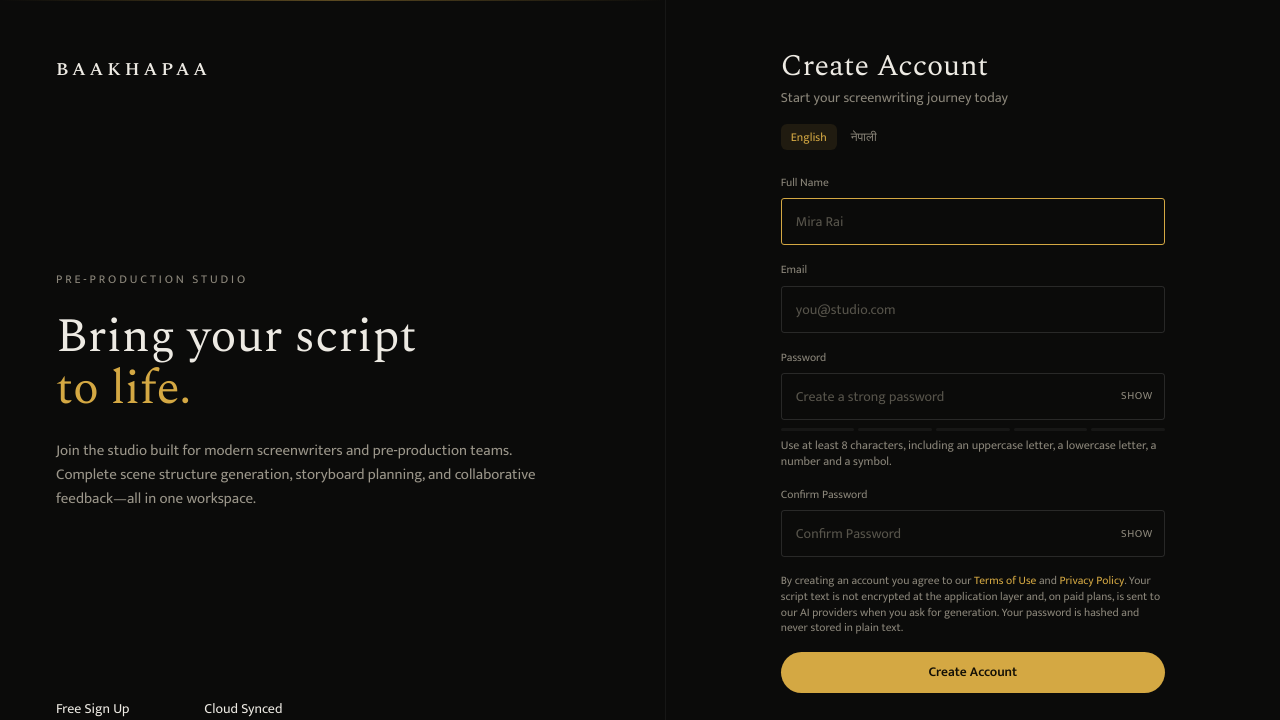
Test: a partly-valid password names only what is still missing
In the password field labelled "Password": (973, 396) [781,373,1165,420], type "kathmandu1"
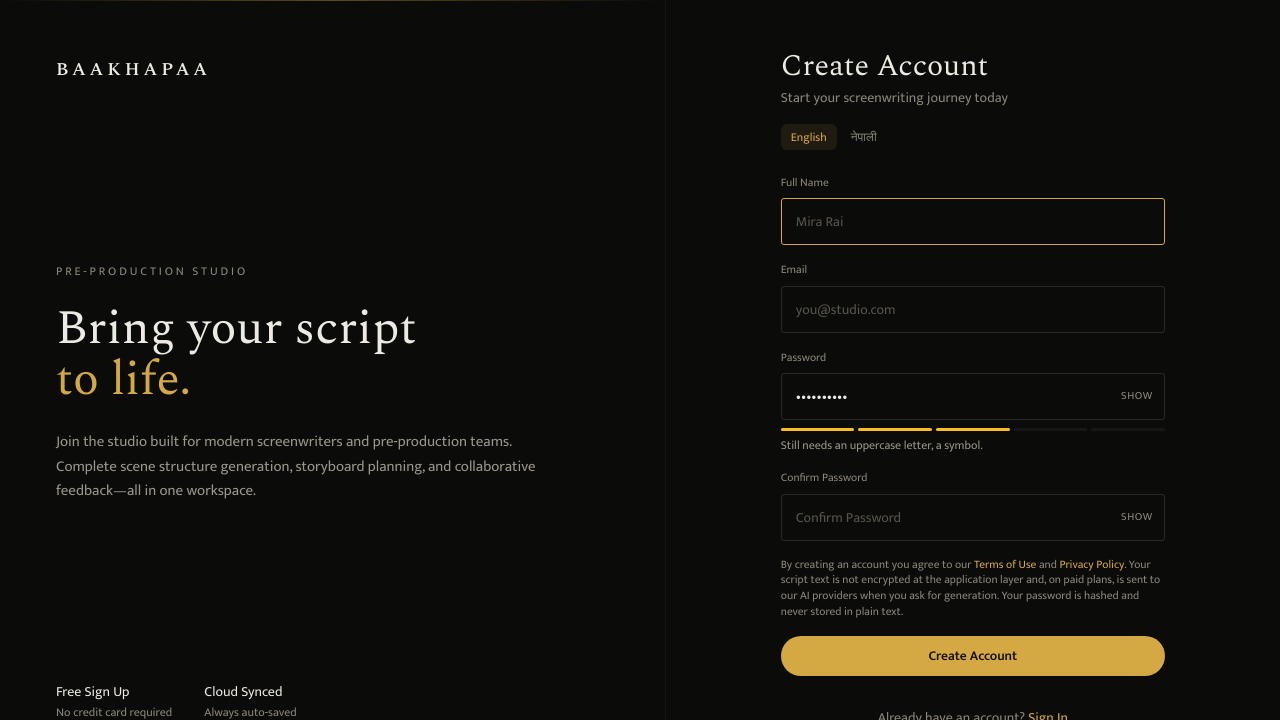
Check: the text "Still needs an uppercase letter, a symbol." is shown, box [781,435,983,455]
Check: the text "Still needs an uppercase letter, a symbol." no longer shows "a number", box [781,435,983,455]
